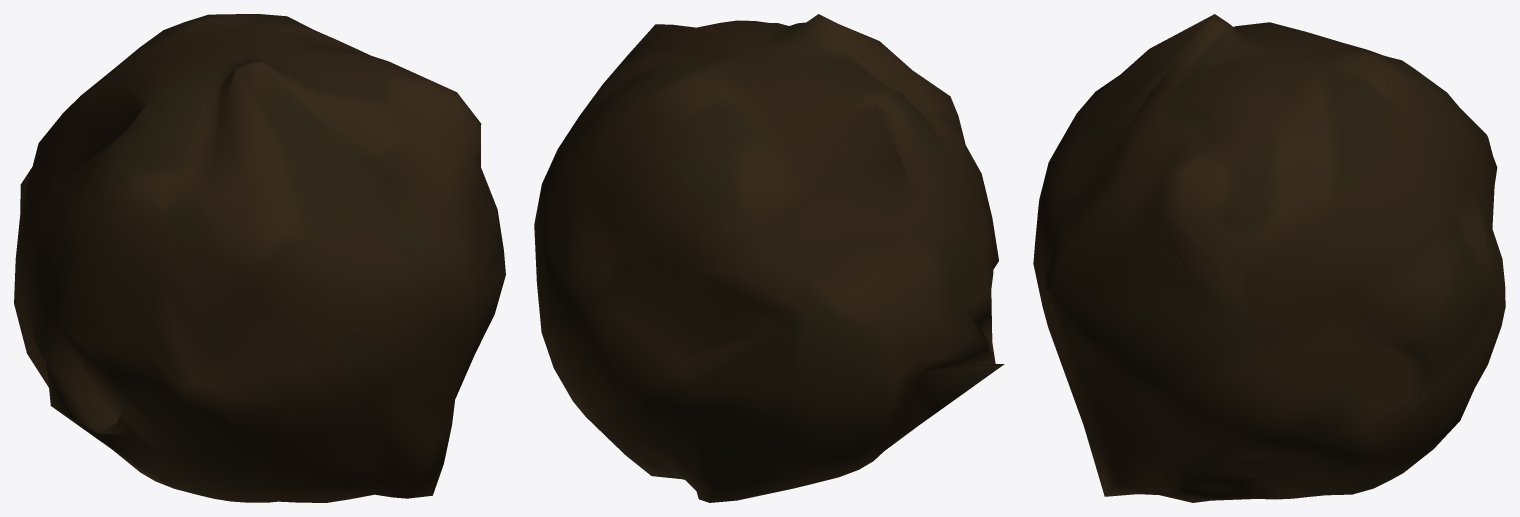
Rendered from Boulder.fbx.
3 views of the same model, side by side, from view 1: azimuth 30°, elevation 25°; view 2: azimuth 150°, elevation 25°; view 3: azimuth 270°, elevation 25° (orthographic). The views are drawn at different scales.
Visible parts, largest first — view 1: Boulder; view 2: Boulder; view 3: Boulder.
Part boxes in pixels (x1,y1,x2,y2): Boulder: [14, 14, 505, 502]; Boulder: [534, 14, 1004, 502]; Boulder: [1033, 14, 1505, 502].
Size of the model in its own units: 2.13 by 2.09 by 2.01.
Materials: 1 (1 with a texture image).
